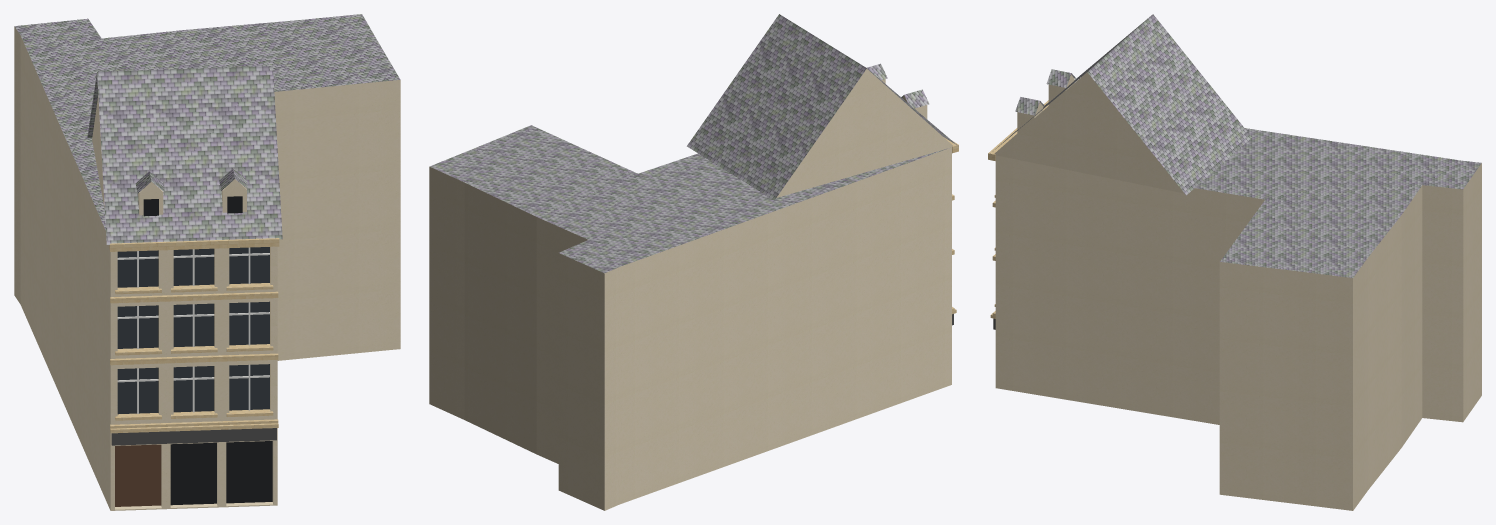
The picture shows the model from 3 angles, left to right: view 1: azimuth 30°, elevation 25°; view 2: azimuth 150°, elevation 25°; view 3: azimuth 270°, elevation 25°; orthographic projection. The views are drawn at different scales.
Parts seen in each view (by area): view 1: bldg_496929346_landmark; view 2: bldg_496929346_landmark; view 3: bldg_496929346_landmark.
Part boxes in pixels (<box>): bldg_496929346_landmark: <box>14,14,400,510</box>; bldg_496929346_landmark: <box>429,14,958,510</box>; bldg_496929346_landmark: <box>988,14,1481,510</box>.
Bounding box in the file's own units: 22.47 × 19.5 × 25.95.
8 materials, 3 textured.
